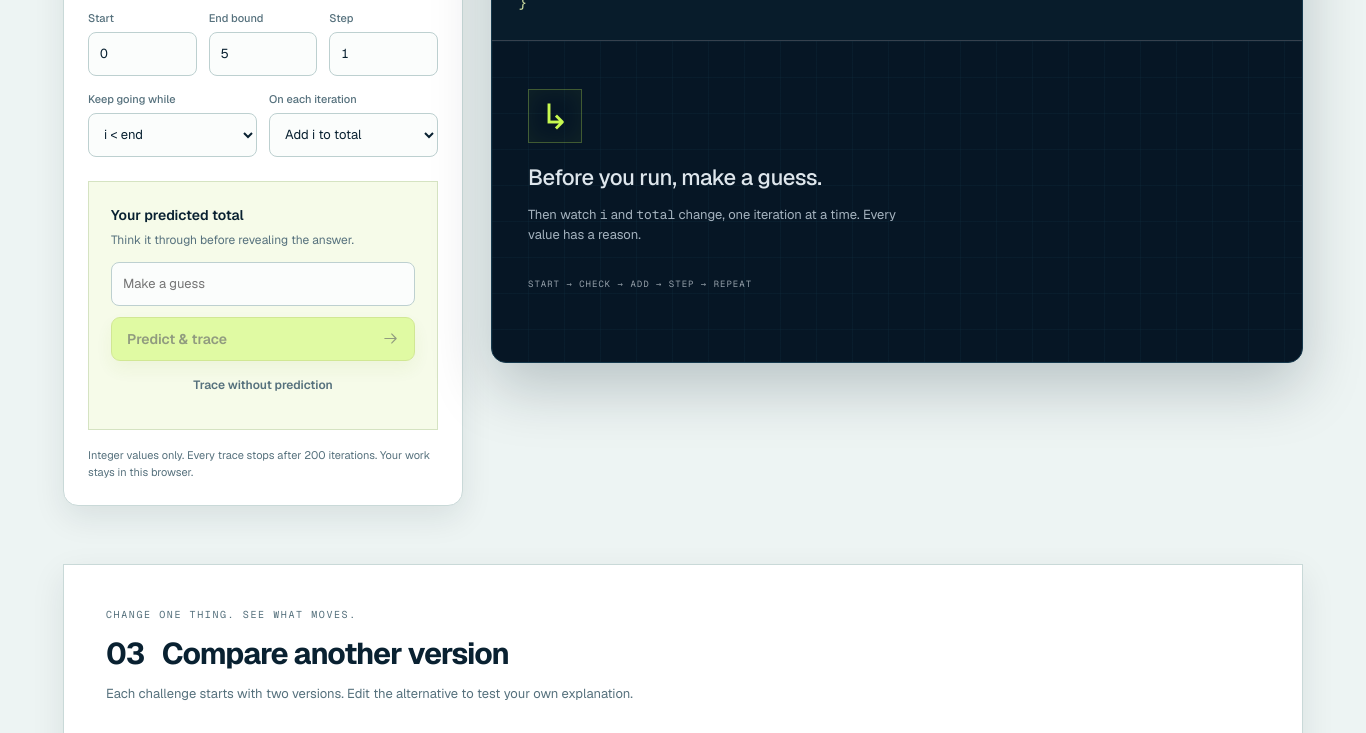
Test: learning flow › invalidates trace on edit and blocks blank numeric fields
(page scrolled)
Click the button "Trace without prediction" at (263, 385), box [193,363,333,407]
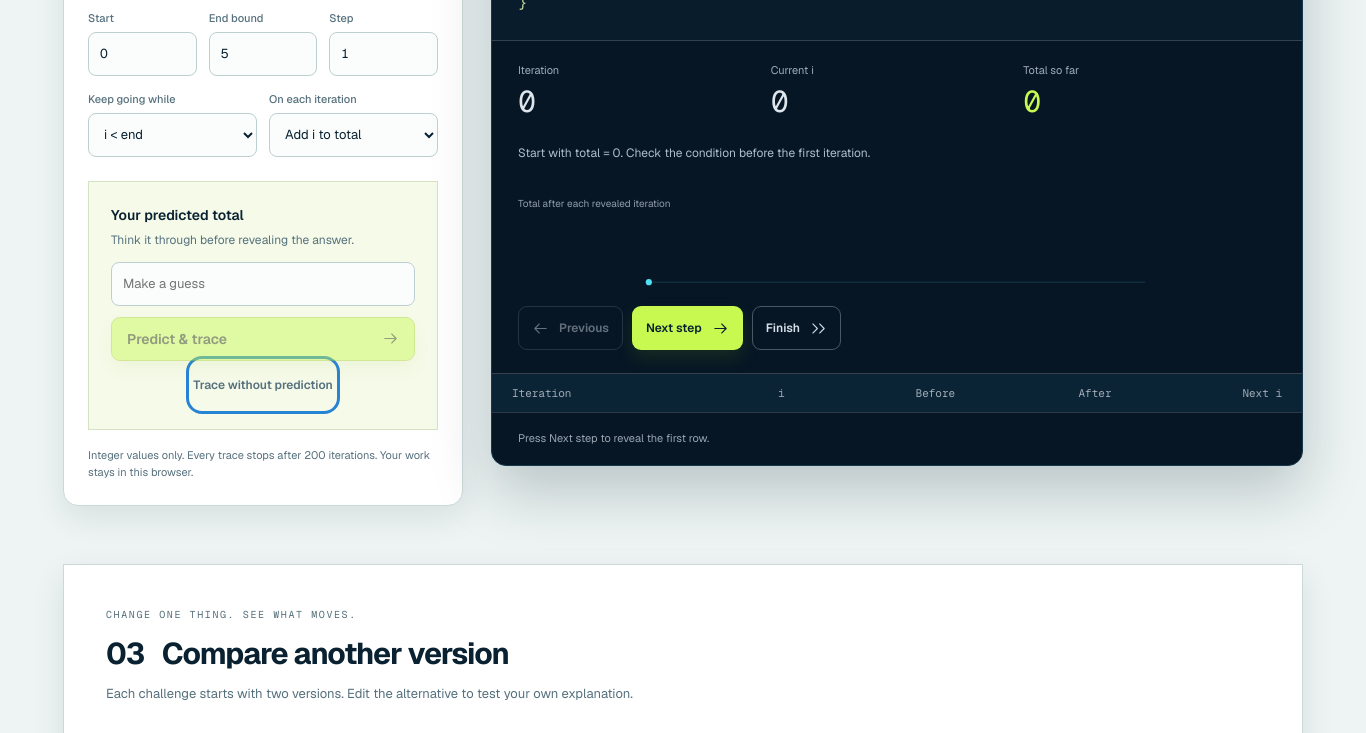
Clear the number field named "Original start" at (142, 54), box [88,32,197,76]
(page scrolled)
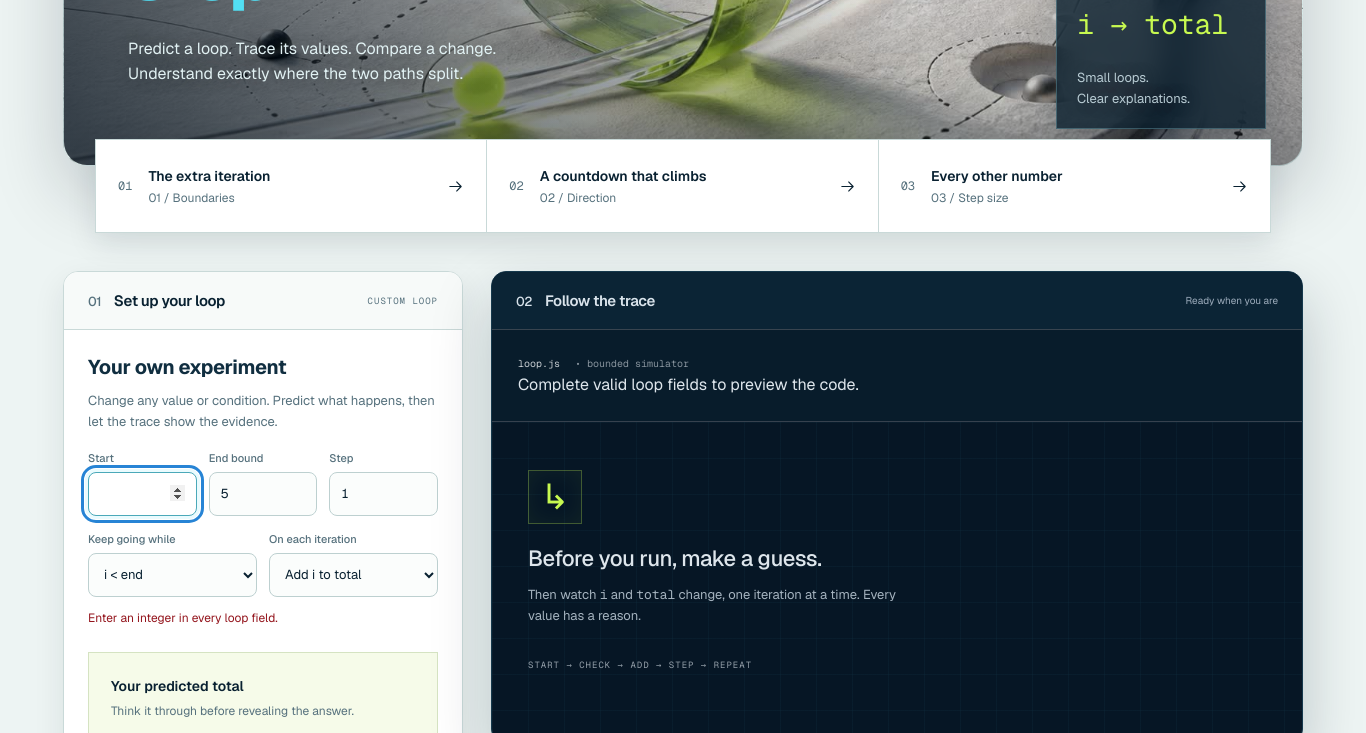
Check: the message shows "Enter an integer", box [88,610,278,626]
Check: the text "Complete valid loop fields to preview the code." is shown, box [518,374,859,395]
